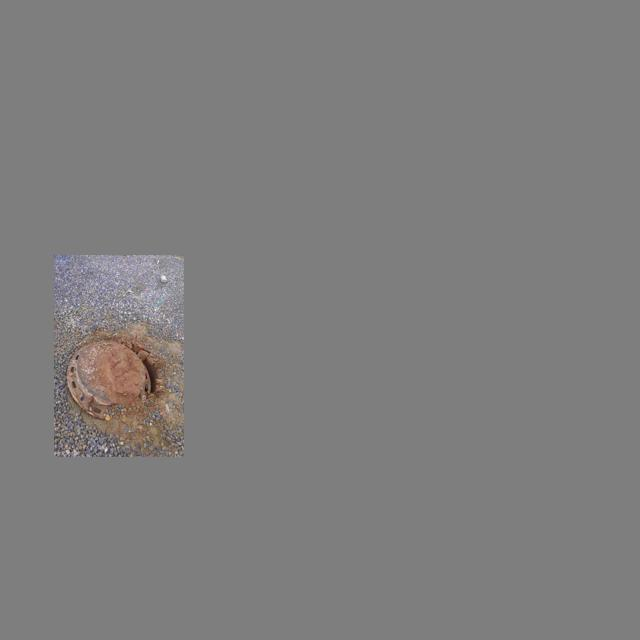uncovered: (66, 339, 159, 421)
